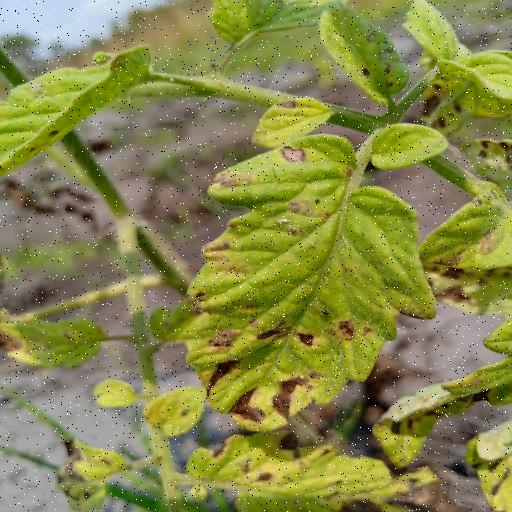Tomato_Brown_Spots: (181, 121, 447, 435)
